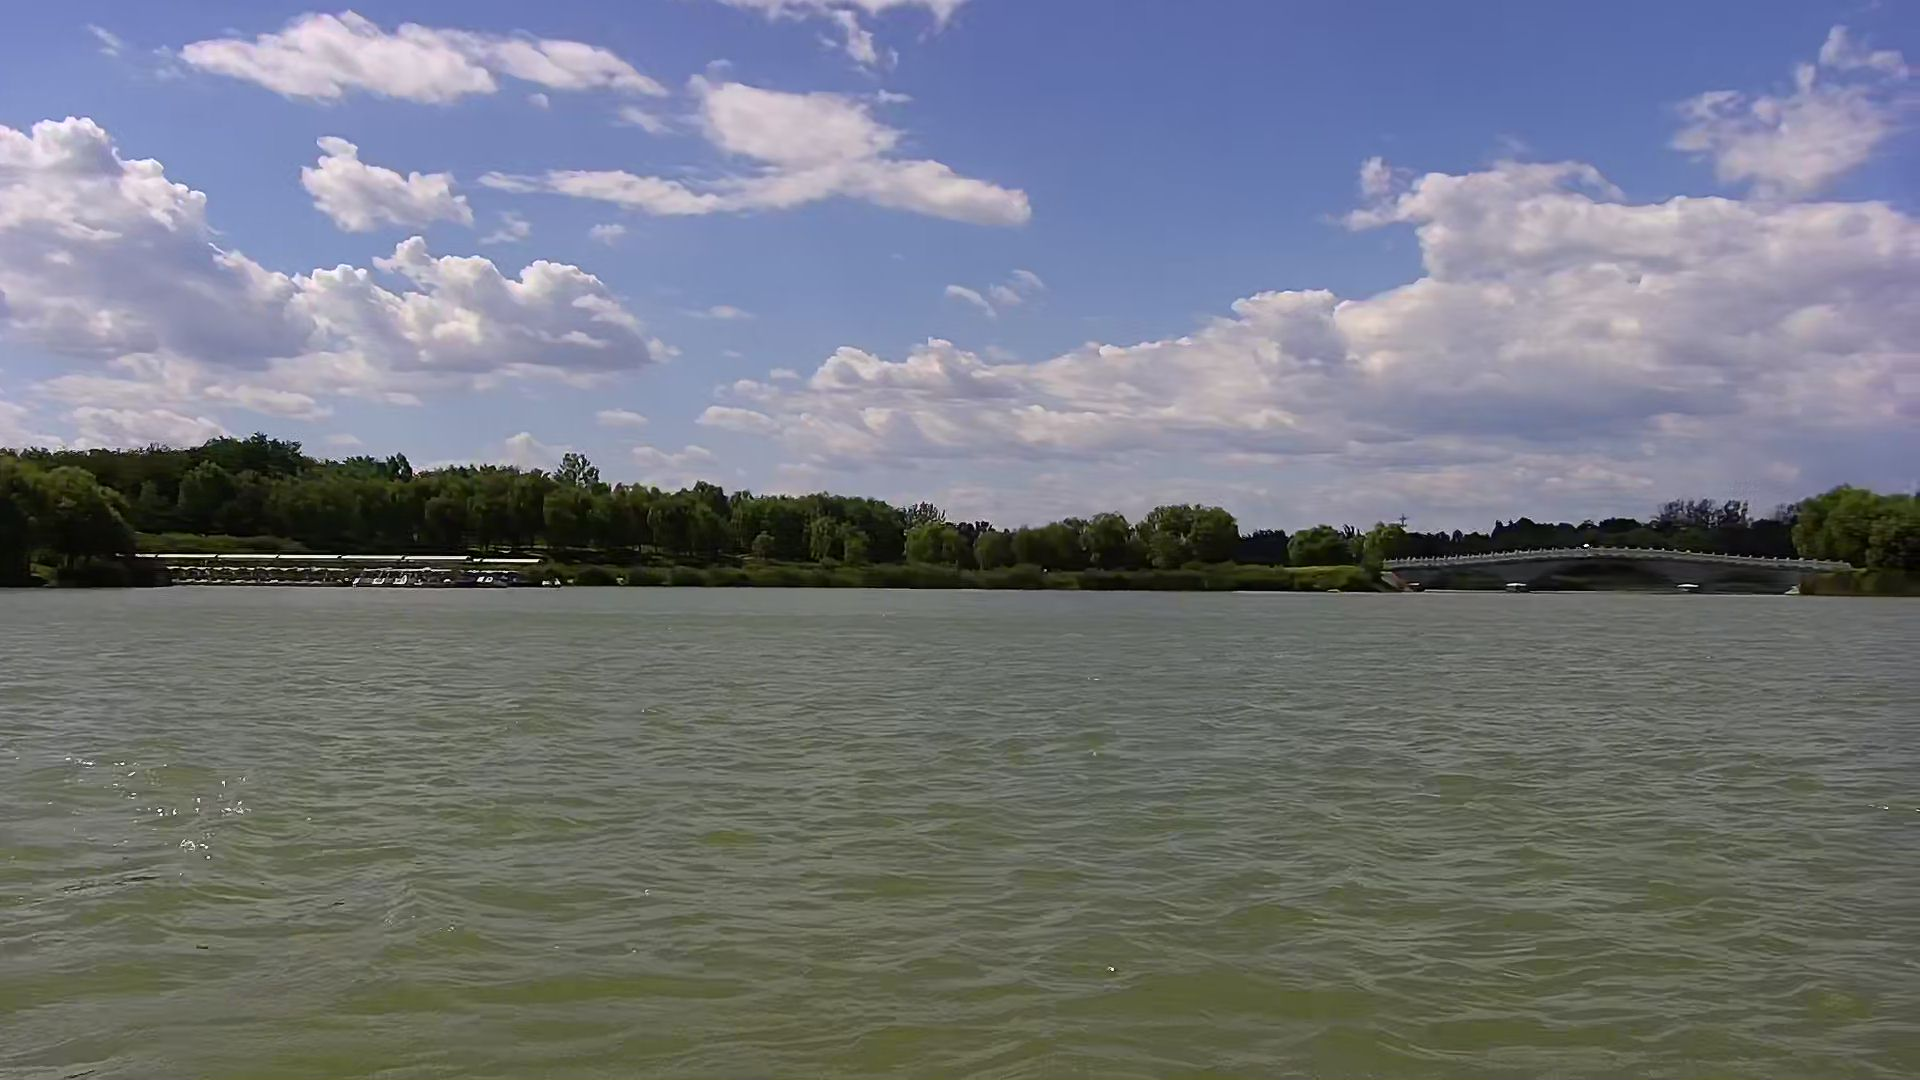bridge: (1375, 551, 1869, 597)
harbor: (135, 551, 538, 592)
